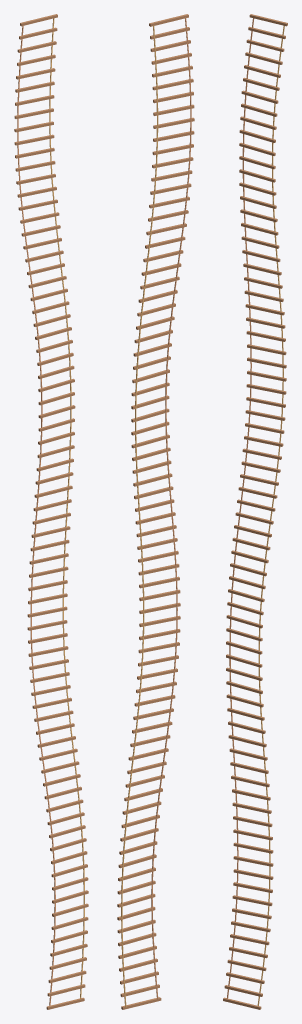
Rendered from Build_Tension.fbx.
3 views of the same model, side by side, from view 1: azimuth 30°, elevation 25°; view 2: azimuth 210°, elevation 25°; view 3: azimuth 330°, elevation 25° (orthographic). The views are drawn at different scales.
Visible parts, largest first — view 1: Build_Tension; view 2: Build_Tension; view 3: Build_Tension.
Boxes of the visible parts, x1,y1,x2,y2 form: Build_Tension: (14,14,88,1009); Build_Tension: (117,14,194,1009); Build_Tension: (223,14,287,1009).
Size of the model in its own units: 3.41 by 60.15 by 3.15.
